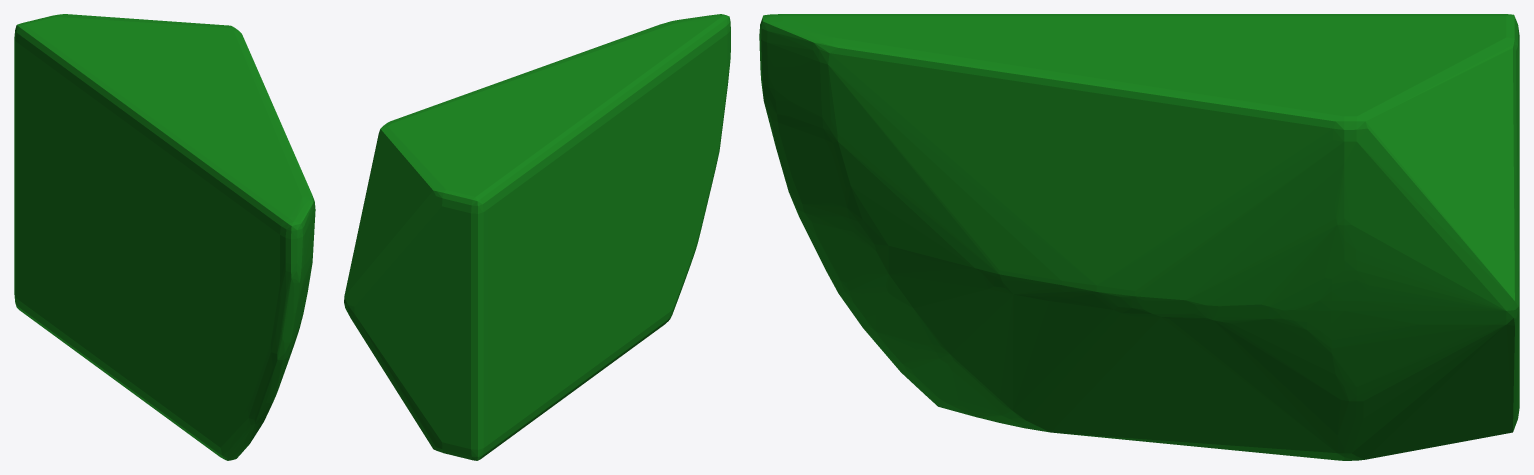
File: right_shoulder_roll_link_part_8.obj
3 views of the same model, side by side, from view 1: azimuth 30°, elevation 25°; view 2: azimuth 150°, elevation 25°; view 3: azimuth 270°, elevation 25° (orthographic). The views are drawn at different scales.
Size of the model in its own units: 0.0153 by 0.0249 by 0.044.
